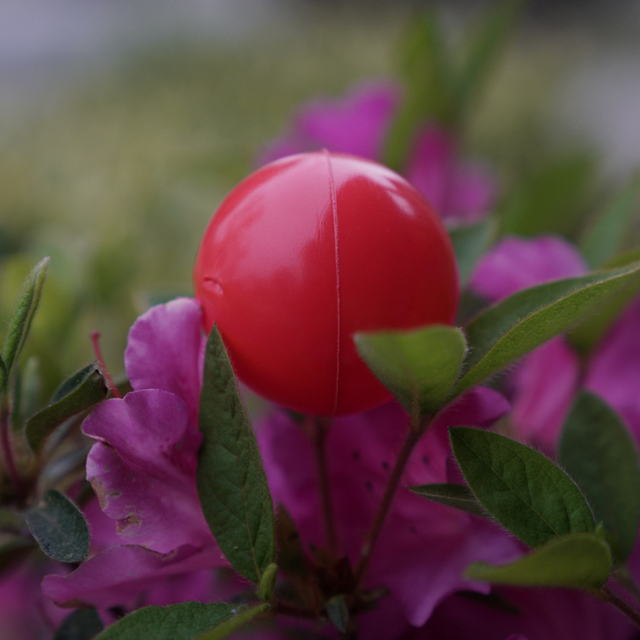Ball: (198, 154, 455, 417)
